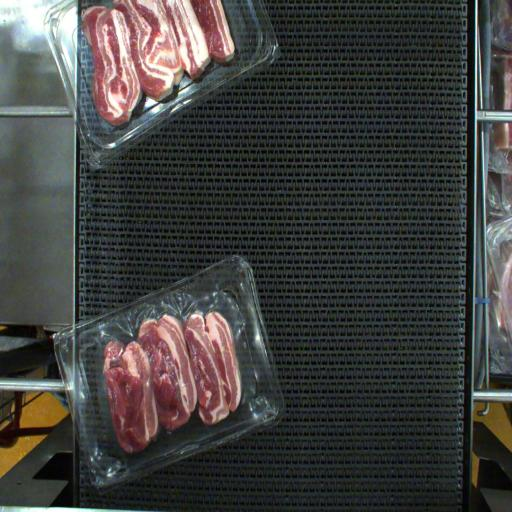unsealed: (88, 282, 246, 458)
